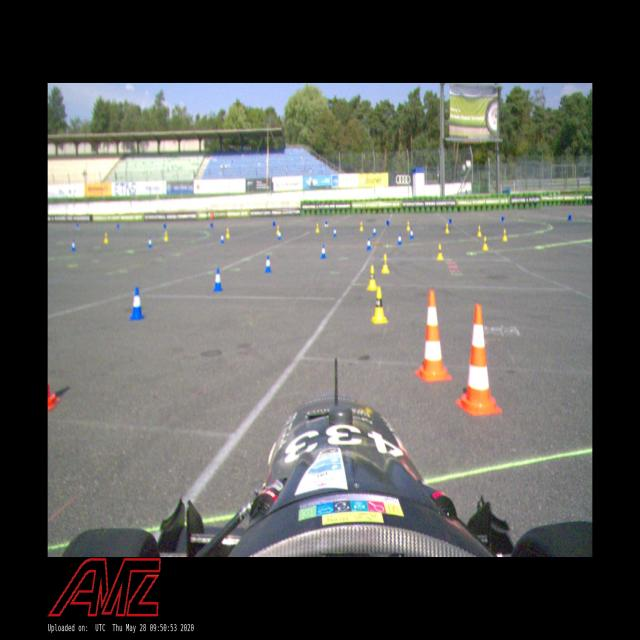blue_cone: (128, 285, 145, 320), (213, 267, 223, 292), (263, 254, 272, 274), (319, 244, 326, 260), (332, 225, 338, 238), (70, 239, 76, 251), (147, 236, 153, 248), (397, 232, 402, 246), (366, 237, 371, 250), (372, 226, 377, 236), (410, 227, 414, 239), (278, 229, 282, 241), (220, 232, 224, 244)
large_orange_cone: (454, 303, 503, 415), (414, 288, 452, 382)
yellow_cone: (371, 285, 389, 325), (366, 264, 378, 290), (381, 253, 390, 275), (436, 243, 444, 261), (482, 236, 489, 251), (502, 228, 508, 242), (444, 222, 450, 234), (477, 225, 482, 238), (225, 227, 230, 239), (359, 221, 364, 232), (104, 231, 108, 244), (406, 221, 411, 231), (164, 230, 168, 242), (276, 225, 280, 235), (316, 223, 319, 233)
